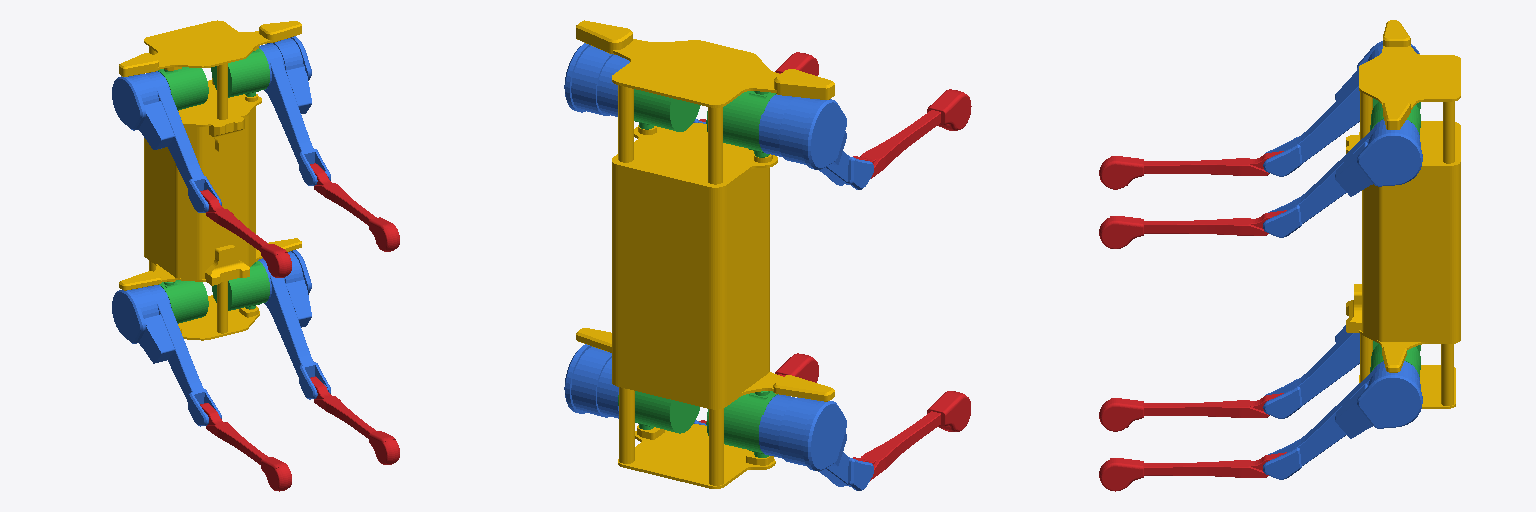
robot.urdf — plane:
<?xml version="1.0" ?>
<robot name="plane">
  <link name="chassis">
  <contact>
      <lateral_friction value="1"/>
  </contact>
    <inertial>
      <origin rpy="0 0 0" xyz="0 0.03 0.043794"/>
       <mass value="13.715"/>
       <inertia ixx="0" ixy="0" ixz="0" iyy="0" iyz="0" izz="0"/>
    </inertial>
    <visual>
      <origin rpy="0 0 0" xyz="0 0 0.043794"/>
      <geometry>
      	
				<mesh filename="chassis.stl" scale="1 1 1"/>
      </geometry>
       <material name="yellow">
        <color rgba="0.95 0.75 0.05 1"/>
      </material>
    </visual>
    <collision>
      <origin rpy="-1.57 0 0" xyz="0 0 0.043794"/>
      <geometry>
      	
				<mesh filename="chassis_vhacd_mod.obj" scale="1 1 1"/>
      </geometry>
    </collision>
  </link>
  
 
	
	 <link name="FR_hip_motor">
  <contact>
      <lateral_friction value="1"/>
  </contact>
    <inertial>
       <origin rpy="0 0 0" xyz="0.02 0 0"/>
       <mass value="1.095"/>
       <inertia ixx="0" ixy="0" ixz="0" iyy="0" iyz="0" izz="0"/>
    </inertial>
	
	  <visual>
      <origin rpy="0 0 0" xyz="0 0 0"/>
      <geometry>
				<mesh filename="hip_motor_mirror.stl" scale="1 1 1"/>
      </geometry>
       <material name="green"/>
    </visual>
    
    <collision>
      <origin rpy="0 0 0" xyz="0 0 0"/>
      <geometry>
				<mesh filename="hip_motor_mirror.stl" scale="1 1 1"/>
      </geometry>
    </collision>
    </link>
    
    <joint name="FR_hip_motor_2_chassis_joint" type="continuous">
		<axis xyz="0 0 -1"/>
		<parent link="chassis"/>
		<child link="FR_hip_motor"/>
		<origin rpy="0 0 0" xyz="-0.0817145 0 0.242889"/>
		<limit effort="100" velocity="100"/>
		<joint_properties damping=".0" friction=".0"/>
	</joint>
	
     <link name="FR_upper_leg">
  <contact>
      <lateral_friction value="1"/>
  </contact>
    <inertial>
     <origin rpy="0 0 0" xyz="0 -0.04 -0.04"/>
       <mass value="1.527"/>
       <inertia ixx="0" ixy="0" ixz="0" iyy="0" iyz="0" izz="0"/>
    </inertial>
       <visual>
      <origin rpy="0 0 0" xyz="0 0 0"/>
      <geometry>
				<mesh filename="upper_leg_mirror.stl" scale="1 1 1"/>
      </geometry>
       <material name="blue"/>
    </visual>
    
    <collision>
      <origin rpy="0 0 0" xyz="0 0 0"/>
      <geometry>
				<mesh filename="upper_leg_right_vhacd.obj" scale="1 1 1"/>
      </geometry>
    </collision>
    
    </link>
    
    <joint name="FR_upper_leg_2_hip_motor_joint" type="continuous">
		<axis xyz="1 0 0"/>
		<parent link="FR_hip_motor"/>
		<child link="FR_upper_leg"/>
		<origin rpy="0 0 0" xyz="-0.053565 0 0"/>
		<limit effort="100" velocity="100"/>
		<joint_properties damping=".0" friction=".0"/>
	</joint>
	
     <link name="FR_lower_leg">
  <contact>
      <lateral_friction value="1"/>
  </contact>
    <inertial>
      <origin rpy="0 0 0" xyz="0 -0.16 -0.02"/>
       <mass value="0.241"/>
       <inertia ixx="0" ixy="0" ixz="0" iyy="0" iyz="0" izz="0"/>
    </inertial>
       <visual>
      <origin rpy="0 1.57079 0" xyz="0 0.0 0"/>
      <geometry>
				<mesh filename="lower_leg_3.stl" scale="1 1 1"/>
      </geometry>
       <material name="red"/>
    </visual>
    
    <collision>
      <origin rpy="0 1.57079 0" xyz="0 0.0 0"/>
      <geometry>
				<mesh filename="lower_leg_3.stl" scale="1 1 1"/>
      </geometry>
    </collision>
    
    </link>
    
    <joint name="FR_lower_leg_2_upper_leg_joint" type="continuous">
		<axis xyz="1 0 0"/>
		<parent link="FR_upper_leg"/>
		<child link="FR_lower_leg"/>
														
		<origin rpy="0 0 0" xyz="0.02069  -0.20833  -0.1422"/>
		<limit effort="100" velocity="100"/>
		<joint_properties damping=".0" friction=".0"/>
	</joint>
	
	
	 <link name="FL_hip_motor">
  <contact>
      <lateral_friction value="1"/>
  </contact>
    <inertial>
     <origin rpy="0 0 0" xyz="-.02 0 0"/>
       <mass value="1.095"/>
       <inertia ixx="0" ixy="0" ixz="0" iyy="0" iyz="0" izz="0"/>
    </inertial>
    <visual>
      <origin rpy="0 0 0" xyz="0 0 0"/>
      <geometry>
				<mesh filename="hip_motor.stl" scale="1 1 1"/>
      </geometry>
       <material name="green">
        <color rgba="0.23 0.73 0.33 1"/>
      </material>
    </visual>
    
    <collision>
      <origin rpy="0 0 0" xyz="0 0 0"/>
      <geometry>
				<mesh filename="hip_motor.stl" scale="1 1 1"/>
      </geometry>
    </collision>
    
      </link>
  
   <joint name="FL_hip_motor_2_chassis_joint" type="continuous">
		<axis xyz="0 0 1"/>
		<parent link="chassis"/>
		<child link="FL_hip_motor"/>
		<origin rpy="0 0 0" xyz="0.0817145 0 0.242889"/>
		<limit effort="100" velocity="100"/>
		<joint_properties damping=".0" friction=".0"/>
	</joint>
	
  <link name="FL_upper_leg">
  <contact>
      <lateral_friction value="1"/>
  </contact>
    <inertial>
       <origin rpy="0 0 0" xyz="0 -0.04 -0.04"/>
       <mass value="1.527"/>
       <inertia ixx="0" ixy="0" ixz="0" iyy="0" iyz="0" izz="0"/>
    </inertial>
     <visual>
      <origin rpy="0 0 0" xyz="0 0 0"/>
      <geometry>
      	
				<mesh filename="upper_leg.stl" scale="1 1 1"/>
      </geometry>
       <material name="blue">
        <color rgba="0.28 0.52 0.93 1"/>
      </material>
    </visual>
    
     <collision>
      <origin rpy="0 0 0" xyz="0 0 0"/>
      <geometry>
				<mesh filename="upper_leg_left_vhacd.obj" scale="1 1 1"/>
      </geometry>
    </collision>
    
    </link>
  
  
  <joint name="FL_upper_leg_2_hip_motor_joint" type="continuous">
		<axis xyz="1 0 0"/>
		<parent link="FL_hip_motor"/>
		<child link="FL_upper_leg"/>
		<origin rpy="0 0 0" xyz="0.055855  0 0"/>
		<limit effort="100" velocity="100"/>
		<joint_properties damping=".0" friction=".0"/>
	</joint>
	 
  
  <link name="FL_lower_leg">
  <contact>
      <lateral_friction value="1"/>
  </contact>
    <inertial>
      <origin rpy="0 0 0" xyz="0 -0.16 -0.02"/>
       <mass value="0.241"/>
       <inertia ixx="0" ixy="0" ixz="0" iyy="0" iyz="0" izz="0"/>
    </inertial>
   <visual>
      <origin rpy="0 1.57079 0" xyz="0 0 0"/>
      <geometry>
				<mesh filename="lower_leg_3.stl" scale="1 1 1"/>
      </geometry>
       <material name="red">
        <color rgba="0.85 0.19 0.21 1"/>
      </material>
    </visual>
    
     <collision>
      <origin rpy="0 1.57079 0" xyz="0 0 0"/>
      <geometry>
				<mesh filename="lower_leg_3.stl" scale="1 1 1"/>
      </geometry>
    </collision>
    
    </link>
    
  <joint name="FL_lower_leg_2_upper_leg_joint" type="continuous">
		<axis xyz="1 0 0"/>
		<parent link="FL_upper_leg"/>
		<child link="FL_lower_leg"/>
		<origin rpy="0 0 0" xyz="-0.02069  -0.20833  -0.1422"/>
		<limit effort="100" velocity="100"/>
		<joint_properties damping=".0" friction=".0"/>
	</joint>
	
	
	
	
	
	
	 <link name="RR_hip_motor">
  <contact>
      <lateral_friction value="1"/>
  </contact>
    <inertial>
      <origin rpy="0 0 0" xyz="0.02 0 0"/>
       <mass value="1.095"/>
       <inertia ixx="0" ixy="0" ixz="0" iyy="0" iyz="0" izz="0"/>
    </inertial>
	
	  <visual>
      <origin rpy="0 0 0" xyz="0 0 0"/>
      <geometry>
				<mesh filename="hip_motor_mirror.stl" scale="1 1 1"/>
      </geometry>
       <material name="green"/>
    </visual>
    
     <collision>
      <origin rpy="0 0 0" xyz="0 0 0"/>
      <geometry>
				<mesh filename="hip_motor_mirror.stl" scale="1 1 1"/>
      </geometry>
    </collision>
    
    </link>
    
    <joint name="RR_hip_motor_2_chassis_joint" type="continuous">
		<axis xyz="0 0 -1"/>
		<parent link="chassis"/>
		<child link="RR_hip_motor"/>
		<origin rpy="0 0 0" xyz="-0.0817145 0 -0.194401"/>
		<limit effort="100" velocity="100"/>
		<joint_properties damping=".0" friction=".0"/>
	</joint>
	
     <link name="RR_upper_leg">
  <contact>
      <lateral_friction value="1"/>
  </contact>
    <inertial>
     <origin rpy="0 0 0" xyz="0 -0.04 -0.04"/>
       <mass value="1.527"/>
       <inertia ixx="0" ixy="0" ixz="0" iyy="0" iyz="0" izz="0"/>
    </inertial>
       <visual>
      <origin rpy="0 0 0" xyz="0 0 0"/>
      <geometry>
				<mesh filename="upper_leg_mirror.stl" scale="1 1 1"/>
      </geometry>
       <material name="blue"/>
    </visual>
    
    <collision>
      <origin rpy="0 0 0" xyz="0 0 0"/>
      <geometry>
				<mesh filename="upper_leg_right_vhacd.obj" scale="1 1 1"/>
      </geometry>
    </collision>
    
    </link>
    
    <joint name="RR_upper_leg_2_hip_motor_joint" type="continuous">
		<axis xyz="1 0 0"/>
		<parent link="RR_hip_motor"/>
		<child link="RR_upper_leg"/>
		<origin rpy="0 0 0" xyz="-0.053565 0 0"/>
		<limit effort="100" velocity="100"/>
		<joint_properties damping=".0" friction=".0"/>
	</joint>
	
     <link name="RR_lower_leg">
  <contact>
      <lateral_friction value="1"/>
  </contact>
    <inertial>
      <origin rpy="0 0 0" xyz="0 -0.16 -0.02"/>
       <mass value="0.241"/>
       <inertia ixx="0" ixy="0" ixz="0" iyy="0" iyz="0" izz="0"/>
    </inertial>
       <visual>
      <origin rpy="0 1.57079 0" xyz="0 0 0"/>
      <geometry>
				<mesh filename="lower_leg_3.stl" scale="1 1 1"/>
      </geometry>
       <material name="red"/>
    </visual>
    
     <collision>
      <origin rpy="0 1.57079 0" xyz="0 0 0"/>
      <geometry>
				<mesh filename="lower_leg_3.stl" scale="1 1 1"/>
      </geometry>
    </collision>
    
    </link>
    
    <joint name="RR_lower_leg_2_upper_leg_joint" type="continuous">
		<axis xyz="1 0 0"/>
		<parent link="RR_upper_leg"/>
		<child link="RR_lower_leg"/>
		<origin rpy="0 0 0" xyz="0.02069  -0.20833  -0.1422"/>
		<limit effort="100" velocity="100"/>
		<joint_properties damping=".0" friction=".0"/>
	</joint>
	
	
	 <link name="RL_hip_motor">
  <contact>
      <lateral_friction value="1"/>
  </contact>
    <inertial>
      <origin rpy="0 0 0" xyz="-.02 0 0"/>
       <mass value="1.095"/>
       <inertia ixx="0" ixy="0" ixz="0" iyy="0" iyz="0" izz="0"/>
    </inertial>
    <visual>
      <origin rpy="0 0 0" xyz="0 0 0"/>
      <geometry>
				<mesh filename="hip_motor.stl" scale="1 1 1"/>
      </geometry>
       <material name="green"/>
    </visual>
    
    <collision>
      <origin rpy="0 0 0" xyz="0 0 0"/>
      <geometry>
				<mesh filename="hip_motor.stl" scale="1 1 1"/>
      </geometry>
    </collision>
    
      </link>
  
   <joint name="RL_hip_motor_2_chassis_joint" type="continuous">
		<axis xyz="0 0 1"/>
		<parent link="chassis"/>
		<child link="RL_hip_motor"/>
												
		<origin rpy="0 0 0" xyz="0.0817145 0 -0.194401"/>
		<limit effort="100" velocity="100"/>
		<joint_properties damping=".0" friction=".0"/>
	</joint>
	
  <link name="RL_upper_leg">
  <contact>
      <lateral_friction value="1"/>
  </contact>
    <inertial>
      <origin rpy="0 0 0" xyz="0 -0.04 -0.04"/>
       <mass value="1.527"/>
       <inertia ixx="0" ixy="0" ixz="0" iyy="0" iyz="0" izz="0"/>
    </inertial>
     <visual>
      <origin rpy="0 0 0" xyz="0 0 0"/>
      <geometry>
				<mesh filename="upper_leg.stl" scale="1 1 1"/>
      </geometry>
       <material name="blue"/>
    </visual>
    
    <collision>
      <origin rpy="0 0 0" xyz="0 0 0"/>
      <geometry>
				<mesh filename="upper_leg_left_vhacd.obj" scale="1 1 1"/>
      </geometry>
    </collision>
    
    </link>
  
  
  <joint name="RL_upper_leg_2_hip_motor_joint" type="continuous">
		<axis xyz="1 0 0"/>
		<parent link="RL_hip_motor"/>
		<child link="RL_upper_leg"/>
		<origin rpy="0 0 0" xyz="0.055855  0 0"/>
		<limit effort="100" velocity="100"/>
		<joint_properties damping=".0" friction=".0"/>
	</joint>
	 
  
  <link name="RL_lower_leg">
  <contact>
      <lateral_friction value="1"/>
  </contact>
    <inertial>
      <origin rpy="0 0 0" xyz="0 -0.16 -0.02"/>
       <mass value="0.241"/>
       <inertia ixx="0" ixy="0" ixz="0" iyy="0" iyz="0" izz="0"/>
    </inertial>
   <visual>
      <origin rpy="0 1.57079 0" xyz="0 0 0"/>
      <geometry>
				<mesh filename="lower_leg_3.stl" scale="1 1 1"/>
      </geometry>
       <material name="red"/>
    </visual>
    
    <collision>
      <origin rpy="0 1.57079 0" xyz="0 0 0"/>
      <geometry>
				<mesh filename="lower_leg_3.stl" scale="1 1 1"/>
      </geometry>
    </collision>
    
    </link>
    
  <joint name="RL_lower_leg_2_upper_leg_joint" type="continuous">
		<axis xyz="1 0 0"/>
		<parent link="RL_upper_leg"/>
		<child link="RL_lower_leg"/>
		<origin rpy="0 0 0" xyz="-0.02069  -0.20833  -0.1422"/>
		<limit effort="100" velocity="100"/>
		<joint_properties damping=".0" friction=".0"/>
	</joint>
	
	
	
</robot>


--- What the picture shows (computed from the rendered views, not written in the file) ---
Views: 3 orthographic renders of the robot side by side, from view 1: azimuth 30°, elevation 25°; view 2: azimuth 150°, elevation 25°; view 3: azimuth 270°, elevation 25°.
Robot: plane — 13 links, 12 joints (12 continuous); root link chassis; default pose: every joint at zero.
Links seen in each view (by area): view 1: chassis, FR_upper_leg, RR_upper_leg, FL_upper_leg, RL_upper_leg, RR_lower_leg, FR_lower_leg, FL_lower_leg, RL_lower_leg, FL_hip_motor, RL_hip_motor, RR_hip_motor (+1 smaller); view 2: chassis, RR_upper_leg, FR_upper_leg, FL_upper_leg, RL_upper_leg, FR_lower_leg, RR_lower_leg, FR_hip_motor, RR_hip_motor, FL_hip_motor, RL_hip_motor, RL_lower_leg (+1 smaller); view 3: chassis, RL_upper_leg, FL_upper_leg, FR_upper_leg, RR_upper_leg, FL_lower_leg, RL_lower_leg, RR_lower_leg, FR_lower_leg.
Link boxes in pixels (bbox=[...]): chassis: bbox=[119, 20, 301, 340]; FR_upper_leg: bbox=[112, 71, 221, 212]; RR_upper_leg: bbox=[112, 285, 221, 426]; FL_upper_leg: bbox=[259, 36, 330, 185]; RL_upper_leg: bbox=[258, 250, 330, 399]; RR_lower_leg: bbox=[200, 403, 291, 491]; FR_lower_leg: bbox=[200, 189, 291, 277]; FL_lower_leg: bbox=[310, 163, 399, 251]; RL_lower_leg: bbox=[310, 376, 399, 464]; FL_hip_motor: bbox=[211, 48, 269, 97]; RL_hip_motor: bbox=[212, 261, 269, 310]; RR_hip_motor: bbox=[159, 280, 208, 323]; chassis: bbox=[576, 20, 834, 488]; RR_upper_leg: bbox=[759, 394, 873, 490]; FR_upper_leg: bbox=[759, 94, 873, 189]; FL_upper_leg: bbox=[564, 43, 705, 123]; RL_upper_leg: bbox=[564, 344, 706, 425]; FR_lower_leg: bbox=[853, 89, 971, 178]; RR_lower_leg: bbox=[853, 391, 970, 480]; FR_hip_motor: bbox=[706, 91, 775, 157]; RR_hip_motor: bbox=[706, 391, 777, 457]; FL_hip_motor: bbox=[634, 89, 700, 131]; RL_hip_motor: bbox=[618, 391, 699, 433]; RL_lower_leg: bbox=[699, 353, 818, 423]; chassis: bbox=[1346, 20, 1460, 408]; RL_upper_leg: bbox=[1263, 361, 1422, 479]; FL_upper_leg: bbox=[1263, 119, 1422, 237]; FR_upper_leg: bbox=[1263, 41, 1419, 176]; RR_upper_leg: bbox=[1263, 325, 1359, 418]; FL_lower_leg: bbox=[1099, 210, 1286, 248]; RL_lower_leg: bbox=[1099, 452, 1286, 491]; RR_lower_leg: bbox=[1099, 393, 1283, 431]; FR_lower_leg: bbox=[1099, 151, 1283, 189].
Bounding box of the posed robot: 0.386 × 0.5921 × 0.7047 m (x, y, z).
13 mesh visuals loaded from 6 distinct referenced files (6 binary STL).